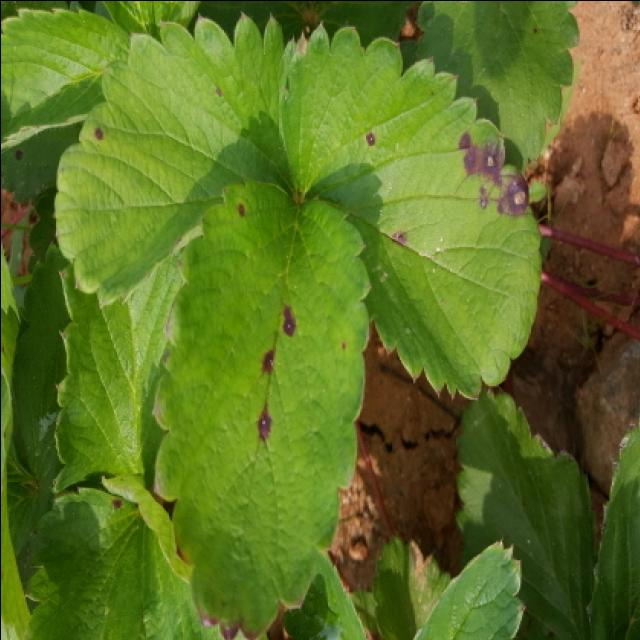Leaf Spot: (151, 174, 371, 640), (281, 21, 541, 401), (53, 10, 295, 309), (21, 472, 228, 640)
